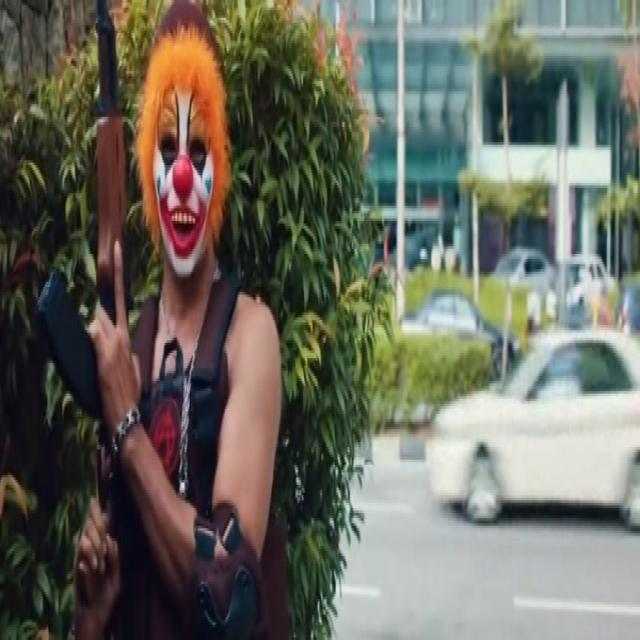rifle: (34, 1, 154, 640)
